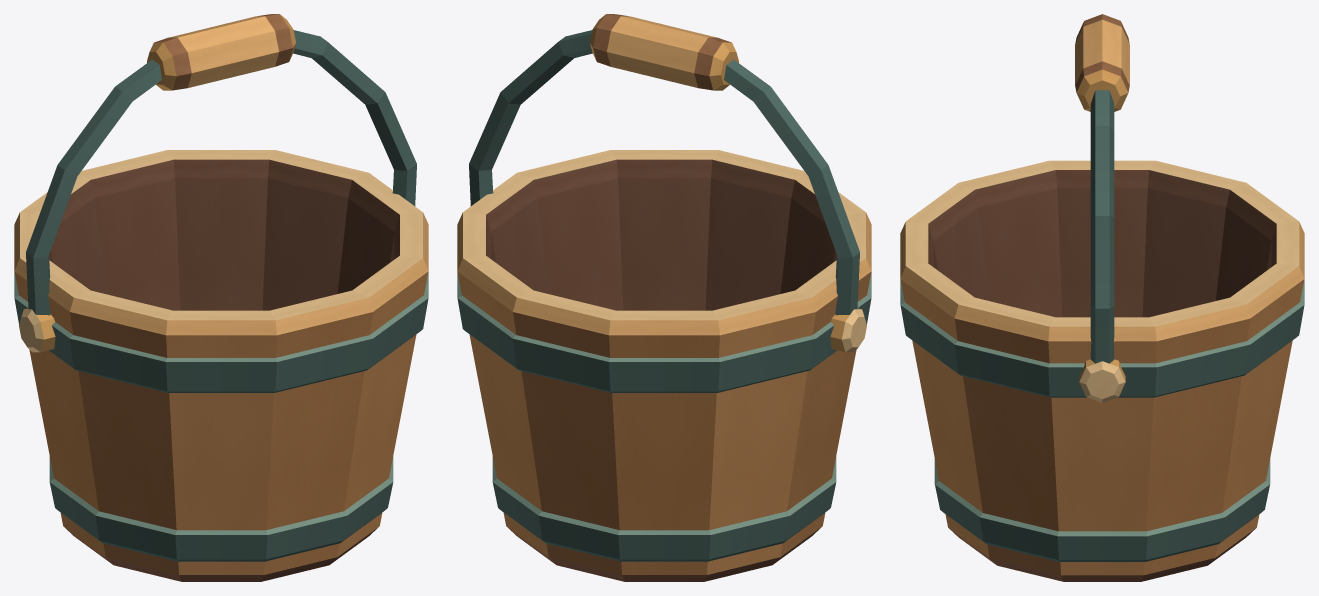
The model's file is orchard_pail.gltf.
3 renders of one model, left to right at view 1: azimuth 30°, elevation 25°; view 2: azimuth 150°, elevation 25°; view 3: azimuth 270°, elevation 25°, orthographic. The views are drawn at different scales.
Parts seen in each view (by area): view 1: Bowl, Bail; view 2: Bowl, Bail; view 3: Bowl, Bail.
Boxes of the visible parts, box(x1,y1,x2,y2) form: Bowl: box(14, 150, 428, 581); Bail: box(19, 14, 416, 352); Bowl: box(457, 150, 871, 581); Bail: box(469, 14, 866, 352); Bowl: box(900, 160, 1304, 581); Bail: box(1075, 14, 1129, 402).
Size of the model in its own units: 0.32 by 0.388 by 0.2956.
Materials: 1 (1 with a texture image).
